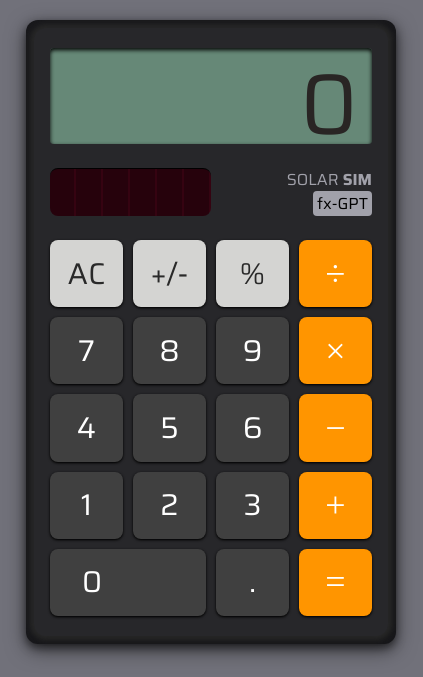
it: displays inputed integer operand: 123 🡢 123
Click the button "1" at (86, 505), box [50,472,123,539]
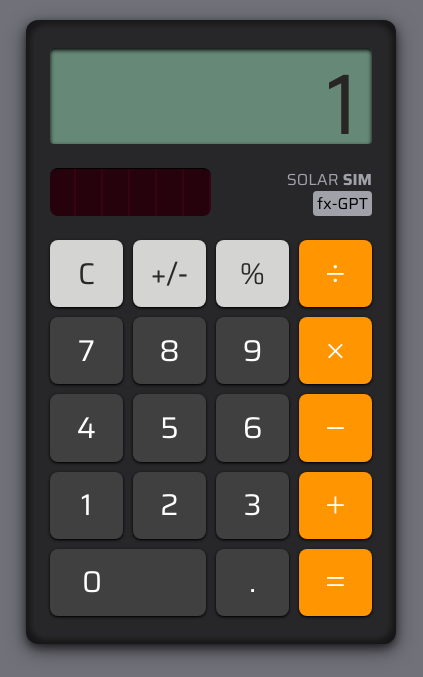
Click the button "2" at (170, 505), box [133,472,206,539]
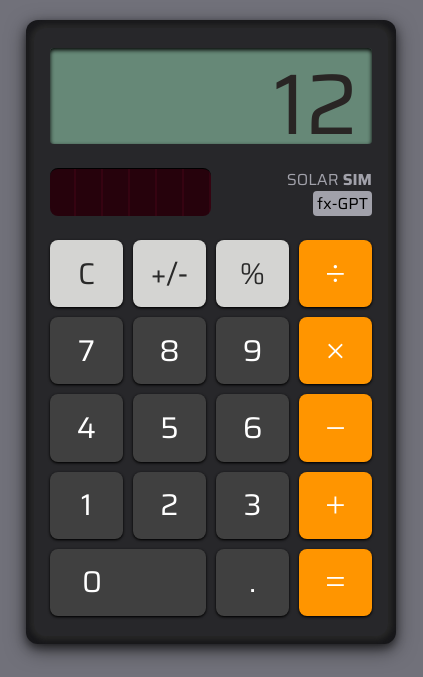
Click the button "3" at (252, 505), box [216,472,289,539]
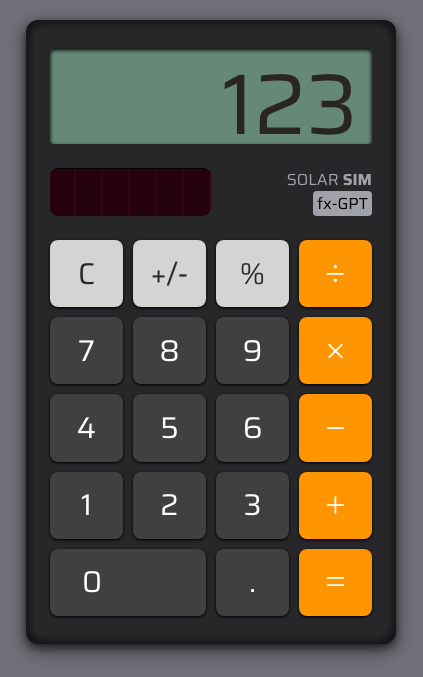
Expected: the text with test id "output" reads "123", [222,48,358,144]
